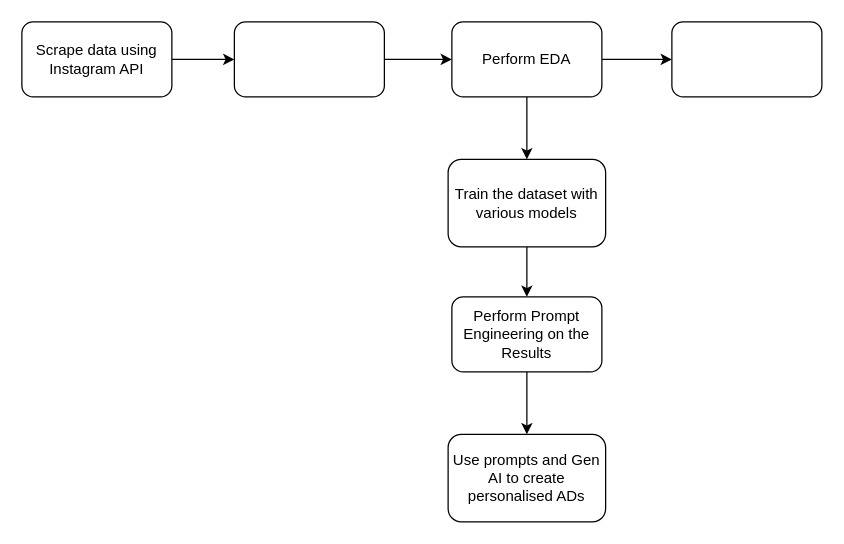
This 844x544 diagram has some shape labels left out. Each missing label, with the box of its shape:
Create Dataset: (233, 21, 384, 97)
Visualisation of Data: (671, 21, 822, 97)
